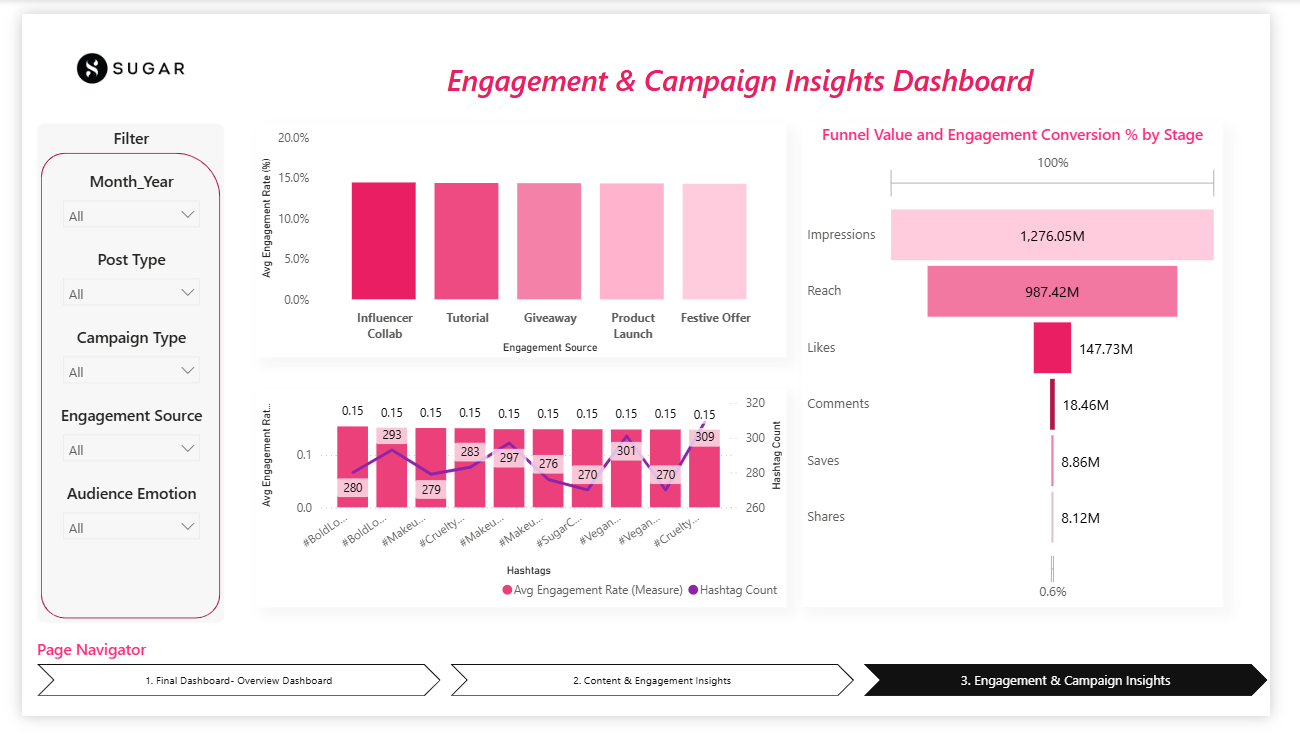

This screenshot's page, from the dashboard's own definition file:
{"tool":"powerbi","page":{"name":"3. Engagement & Campaign Insights","canvas":[1280,720],"ordinal":14},"visuals":[{"type":"shape","title":"Filter","box":[16,112,192,512],"z":0},{"type":"slicer","title":"Month_Year","fields":{"Values":["sugar_cosmetics_instagram_data.Month_Year"]},"box":[32,160,160,80],"z":1000},{"type":"slicer","title":"Post Type","fields":{"Values":["sugar_cosmetics_instagram_data.Post Type"]},"box":[32,240,160,80],"z":2000},{"type":"slicer","title":"Campaign Type","fields":{"Values":["sugar_cosmetics_instagram_data.Campaign Type"]},"box":[32,320,160,80],"z":3000},{"type":"slicer","title":"Engagement Source","fields":{"Values":["sugar_cosmetics_instagram_data.Engagement Source"]},"box":[32,400,160,80],"z":4000},{"type":"slicer","title":"Audience Emotion","fields":{"Values":["sugar_cosmetics_instagram_data.Audience Emotion"]},"box":[32,480,160,64],"z":5000},{"type":"image","box":[16,16,192,80],"z":6000},{"type":"textbox","title":"Engagement & Campaign Insights Dashboard","box":[272,48,928,48],"z":7000},{"type":"clusteredColumnChart","title":"Monthly Engagement Trend","fields":{"Category":["sugar_cosmetics_instagram_data.Campaign Type"],"Y":["sugar_cosmetics_instagram_data.Avg Engagement Rate"]},"box":[240,112,544,240],"z":8000},{"type":"pageNavigator","title":"Page Navigator","box":[16,640,1264,60],"z":9000},{"type":"funnel","fields":{"Category":["Engagement Funnel.Stage"],"Y":["Engagement Funnel.Funnel Value"]},"box":[800,112,432,496],"z":10000},{"type":"lineClusteredColumnComboChart","fields":{"Category":["sugar_cosmetics_instagram_data.Hashtags"],"Y":["sugar_cosmetics_instagram_data.Avg Engagement Rate (Measure)"],"Y2":["Engagement Funnel.Hashtag Count"]},"box":[240,384,544,224],"z":11000}]}

Visuals, with their boxes in screenshot pixels (x1, y1, x2, y2), scaled from the page's 1280x720 canvas onto the 1300x736 screenshot:
"Filter" shape: l=16, t=114, r=211, b=638
"Month_Year" slicer: l=32, t=164, r=195, b=245
"Post Type" slicer: l=32, t=245, r=195, b=327
"Campaign Type" slicer: l=32, t=327, r=195, b=409
"Engagement Source" slicer: l=32, t=409, r=195, b=491
"Audience Emotion" slicer: l=32, t=491, r=195, b=556
image: l=16, t=16, r=211, b=98
"Engagement & Campaign Insights Dashboard" textbox: l=276, t=49, r=1219, b=98
"Monthly Engagement Trend" clusteredColumnChart: l=244, t=114, r=796, b=360
"Page Navigator" pageNavigator: l=16, t=654, r=1299, b=716
funnel - Engagement Funnel.Stage x Engagement Funnel.Funnel Value: l=812, t=114, r=1251, b=622
lineClusteredColumnComboChart - sugar_cosmetics_instagram_data.Hashtags x sugar_cosmetics_instagram_data.Avg Engagement Rate (Measure): l=244, t=393, r=796, b=622
